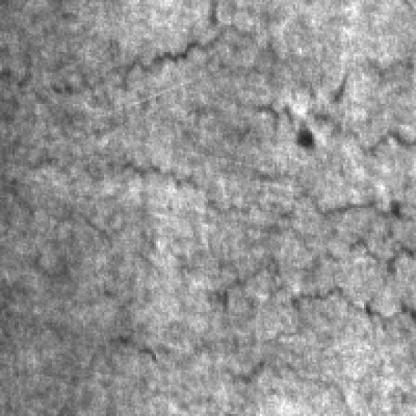crazing: (48, 19, 416, 152), (197, 187, 416, 384)
